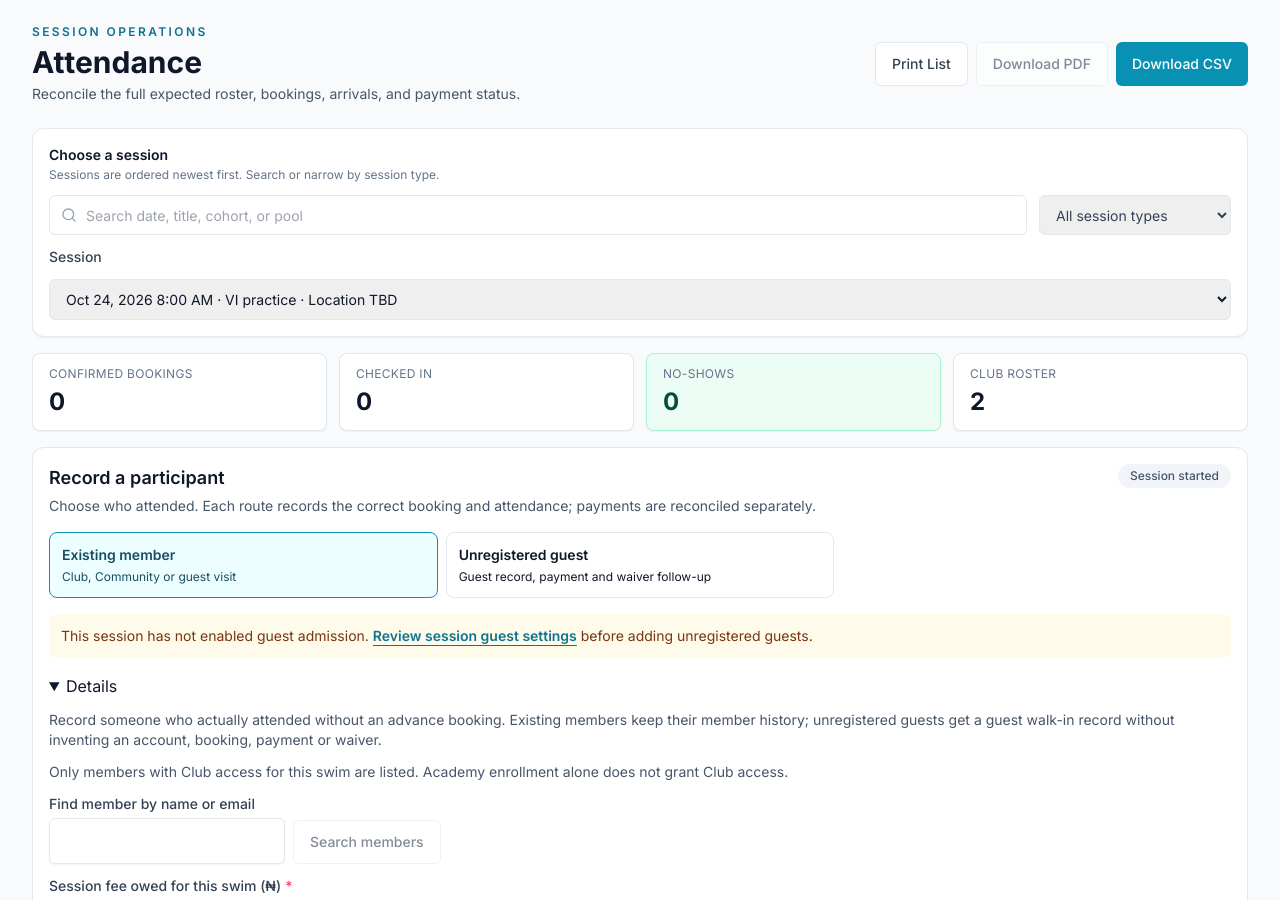
passes the agreed fee through to the add-walk-in member selector
The image size is (1280, 900).
Expected: the heading "Record a participant" is shown, [49,467,225,488]
Step 1. Type "Ayodeji" into the field labelled "Find member by name or email" → (167, 841), box [49,818,285,864]
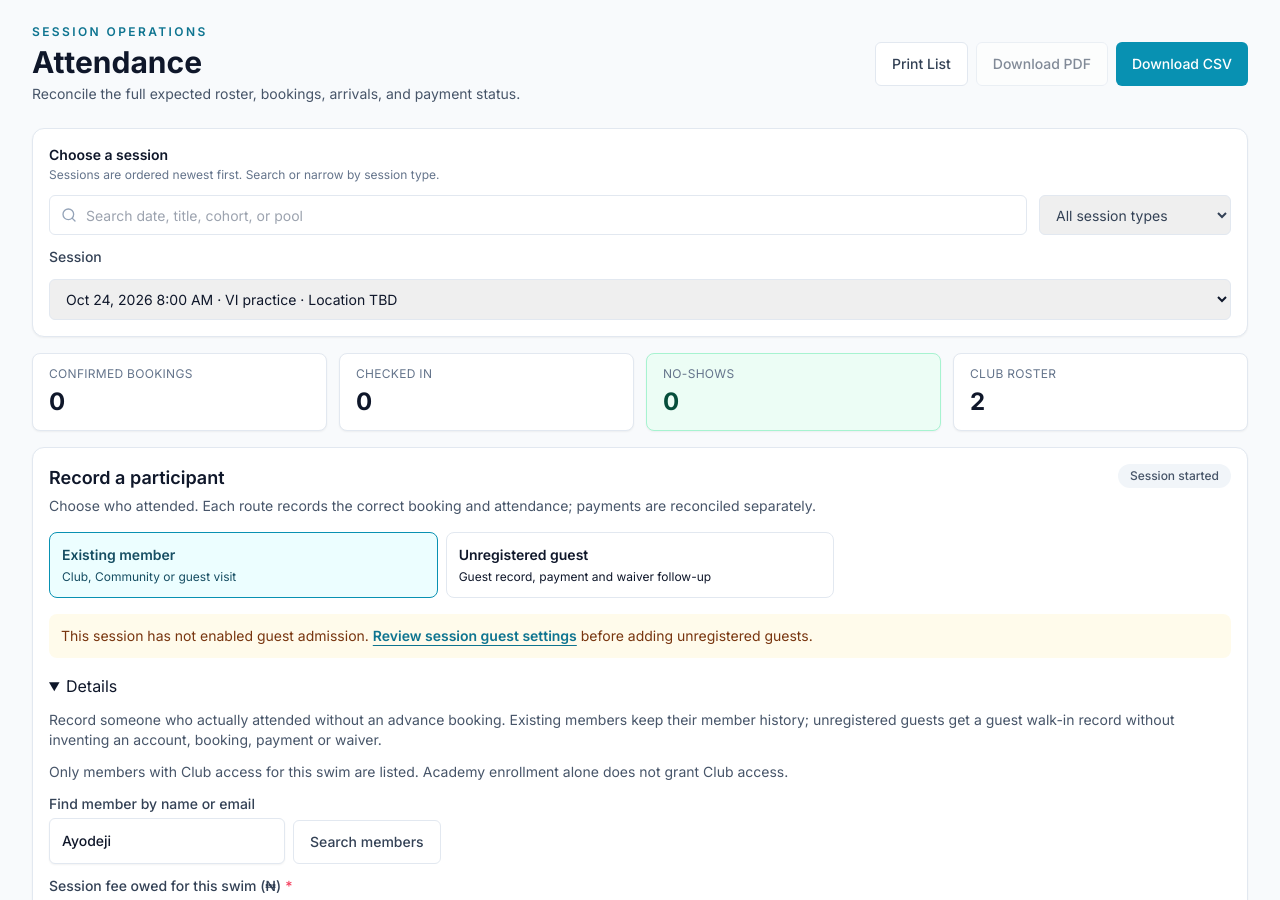
Step 2. Click the button "Search members" → (367, 842), box [293,820,441,864]
(page scrolled)
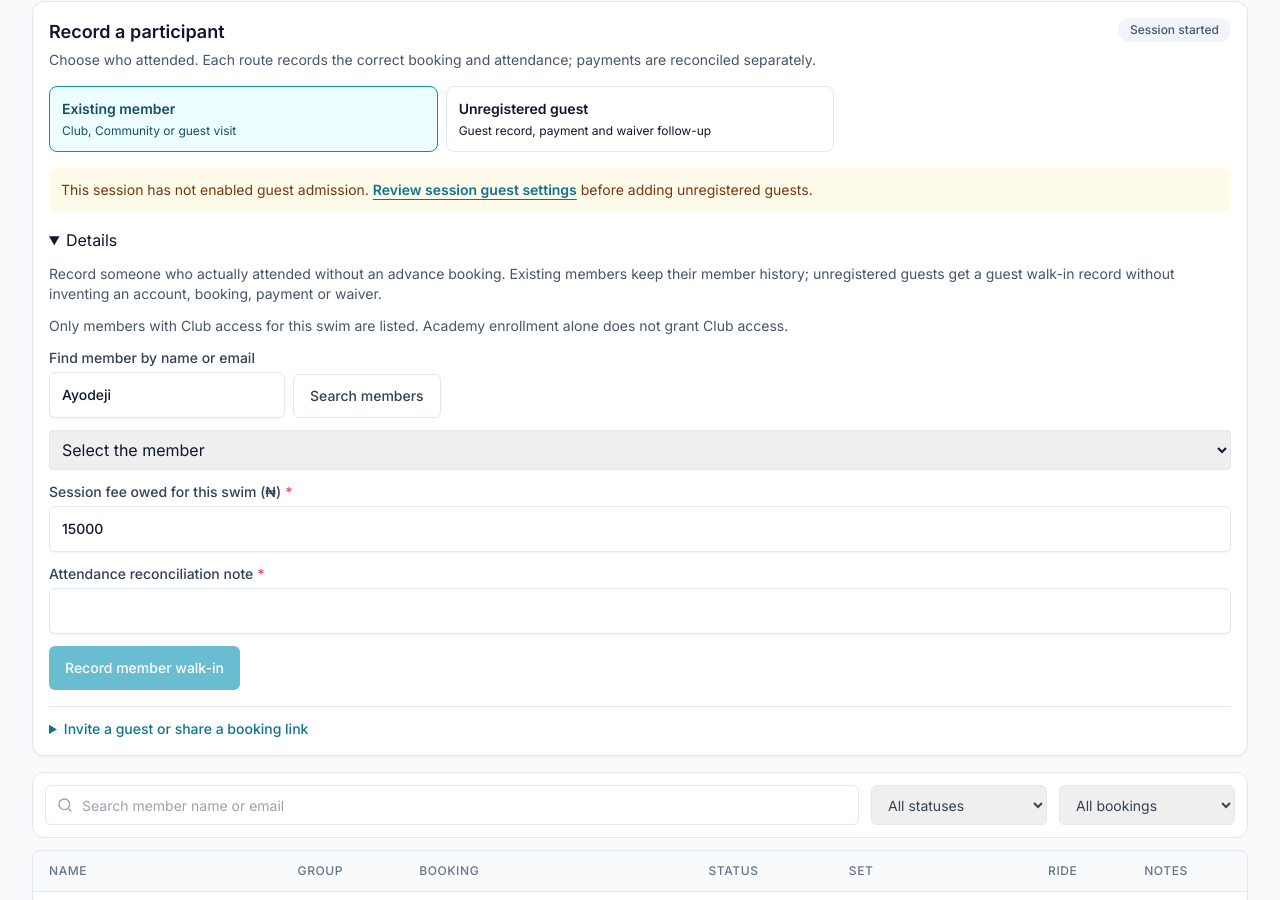
Step 3. Select "Ayodeji Esuruoso — ay@example.com" in the dropdown named "Member to record" → (640, 450), box [49,430,1231,470]
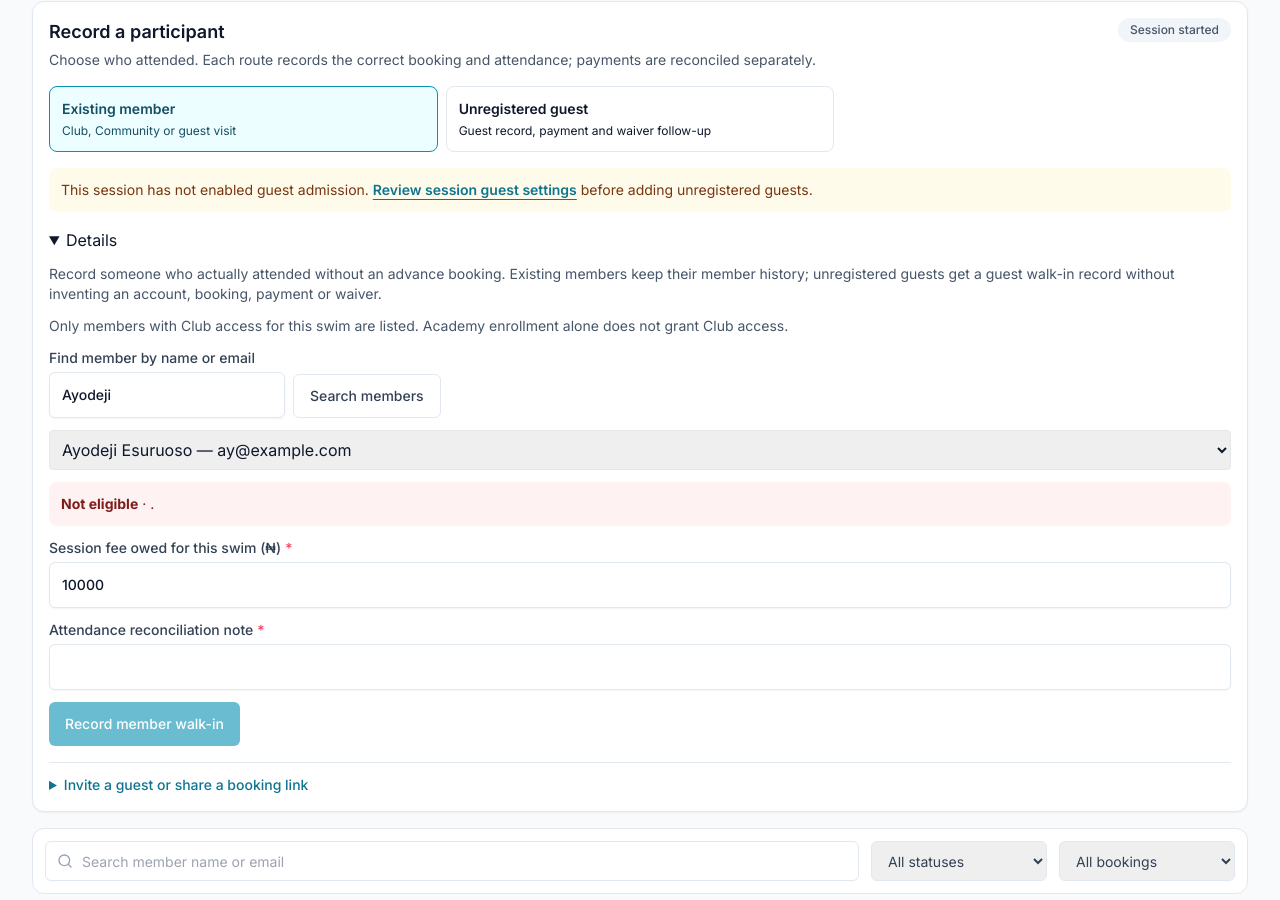
Now the number field labelled "Session fee owed for this swim (₦) *" holds "10000", box [49,562,1231,608]
